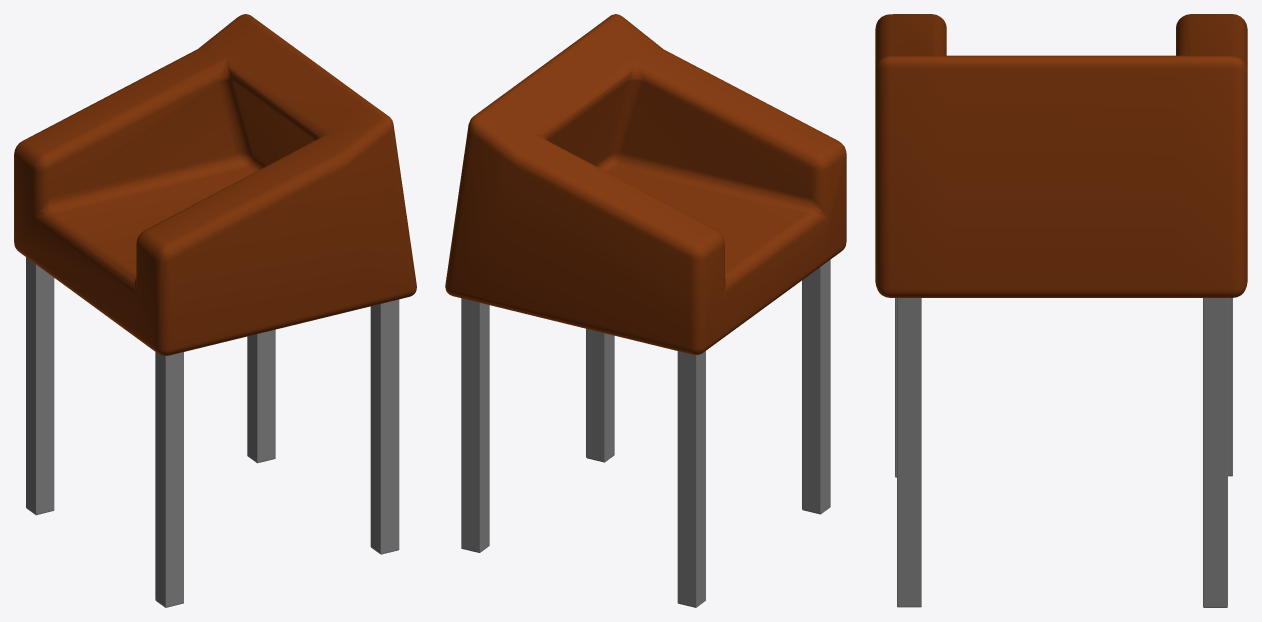
File: Chair.glb
3 renders of one model, left to right at view 1: azimuth 30°, elevation 25°; view 2: azimuth 150°, elevation 25°; view 3: azimuth 270°, elevation 25°, orthographic. The views are drawn at different scales.
Parts seen in each view (by area): view 1: Chair; view 2: Chair; view 3: Chair.
Part boxes in pixels (x1,y1,x2,y2): Chair: (14,14,416,607); Chair: (445,14,846,607); Chair: (875,14,1247,607).
Bounding box in the file's own units: 1.53 × 2.47 × 1.54.
